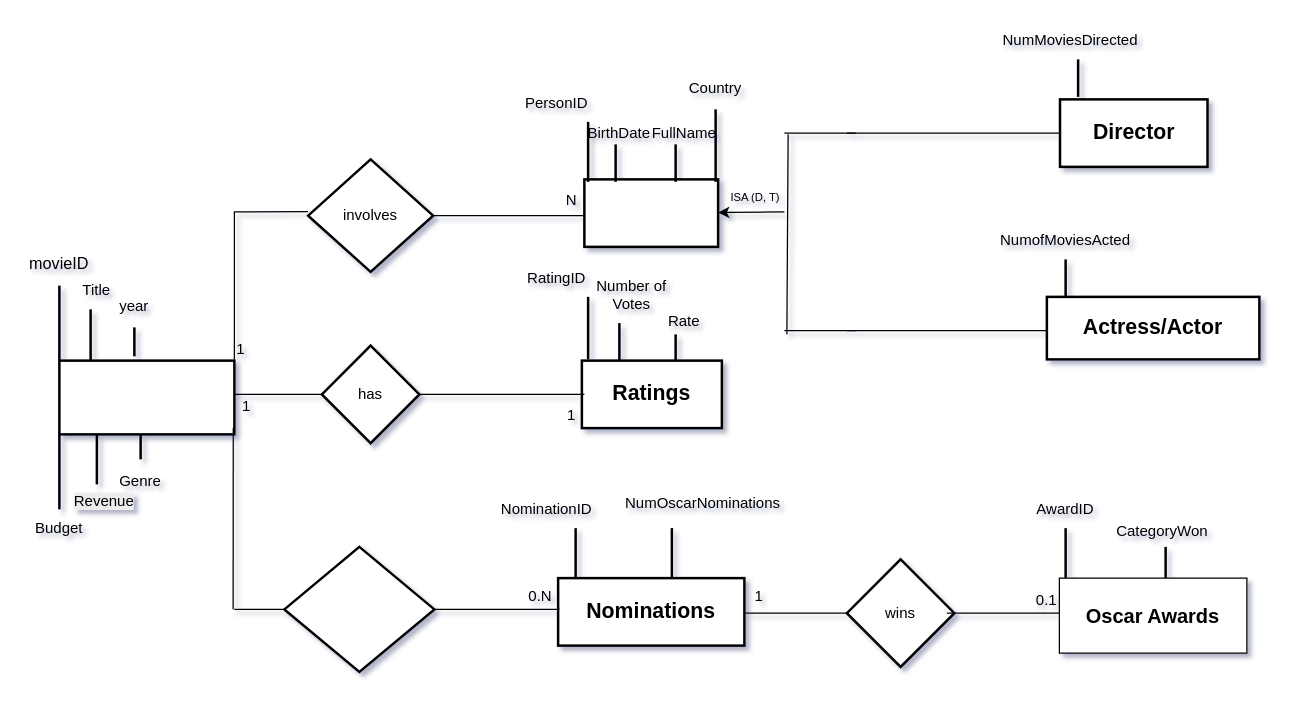
The diagram is 1289 pixels wide and 701 high, and some of its shapes have lost their labels. The shapes that lost their labels are listed below. From the top down, each one's box as (x1, y1, x2, y2) in pixels, then its label:
(582, 178, 719, 248): Person
(58, 359, 235, 435): Movie
(282, 545, 435, 672): is nominated for
